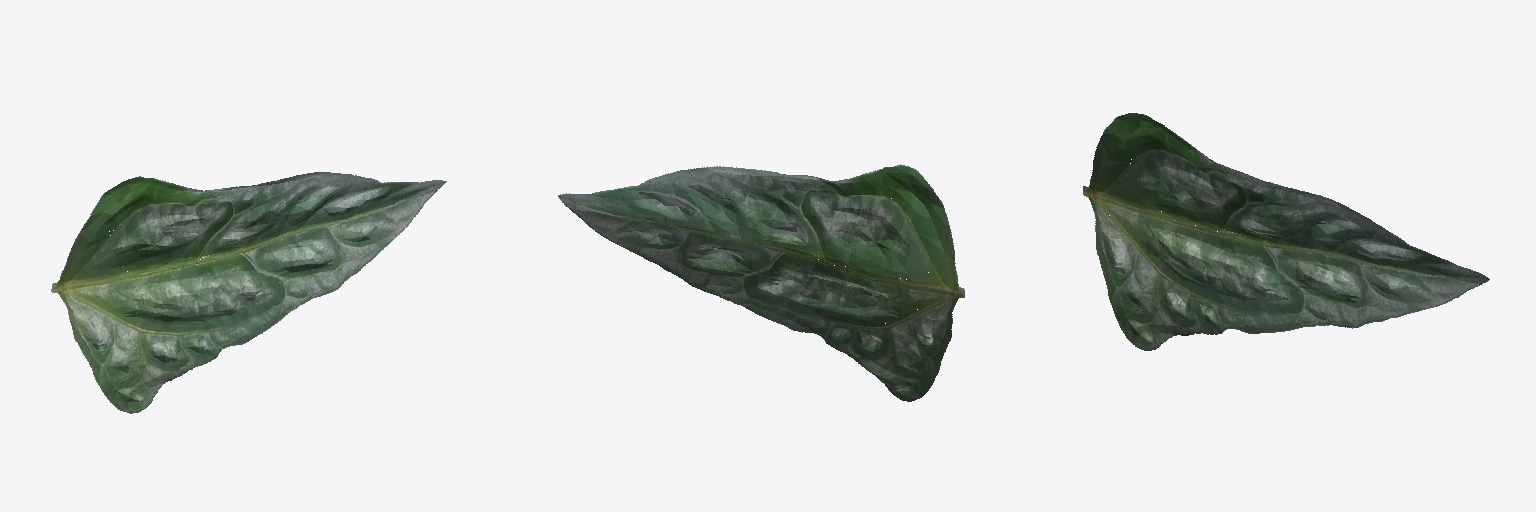
3 renders of one model, left to right at view 1: azimuth 30°, elevation 25°; view 2: azimuth 150°, elevation 25°; view 3: azimuth 330°, elevation 25°, orthographic.
Parts seen in each view (by area): view 1: leaf, veins; view 2: leaf, veins; view 3: leaf, veins.
Part boxes in pixels (x1,y1,x2,y2): leaf: (52, 172, 446, 413); veins: (51, 206, 211, 331); leaf: (558, 164, 964, 401); veins: (812, 198, 964, 328); leaf: (1083, 113, 1489, 350); veins: (1083, 146, 1235, 276).
Bounding box in the file's own units: 2.01 × 1.15 × 0.1825.
1 materials, 1 textured.